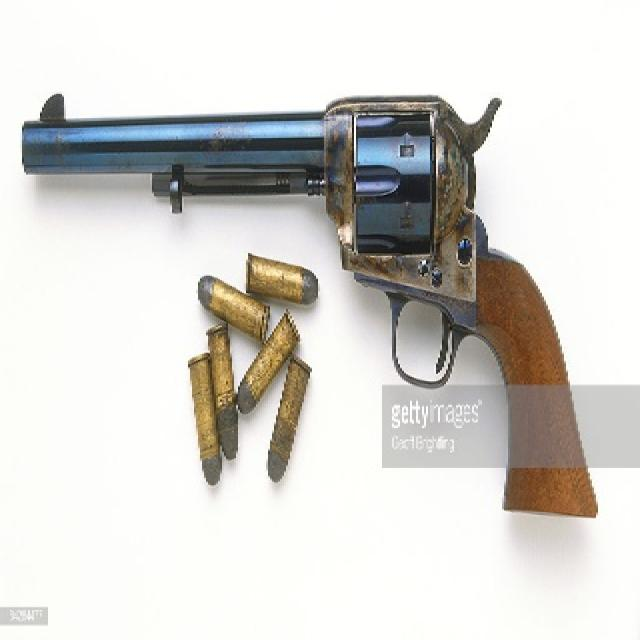handgun: (15, 87, 605, 519)
